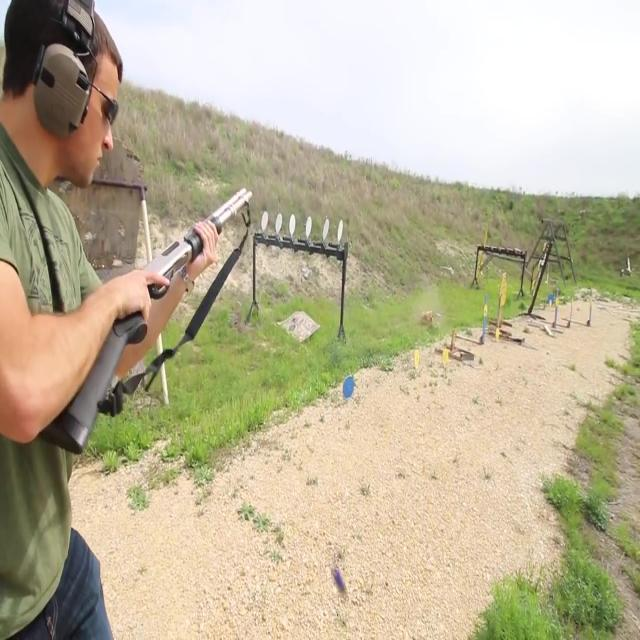Weapon: (40, 166, 283, 470), (322, 544, 359, 610)
